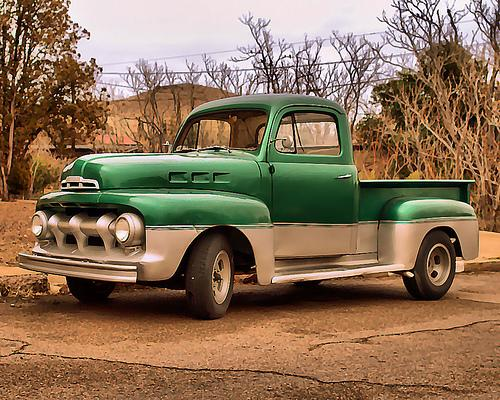truck: (16, 93, 480, 321)
